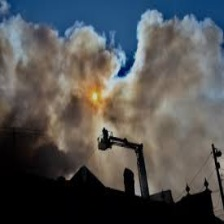smoke: (9, 26, 210, 179)
